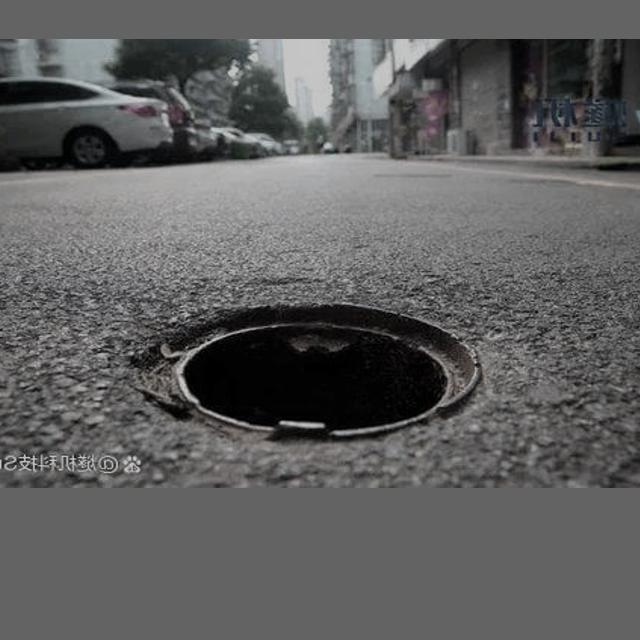lose: (126, 293, 486, 450)
